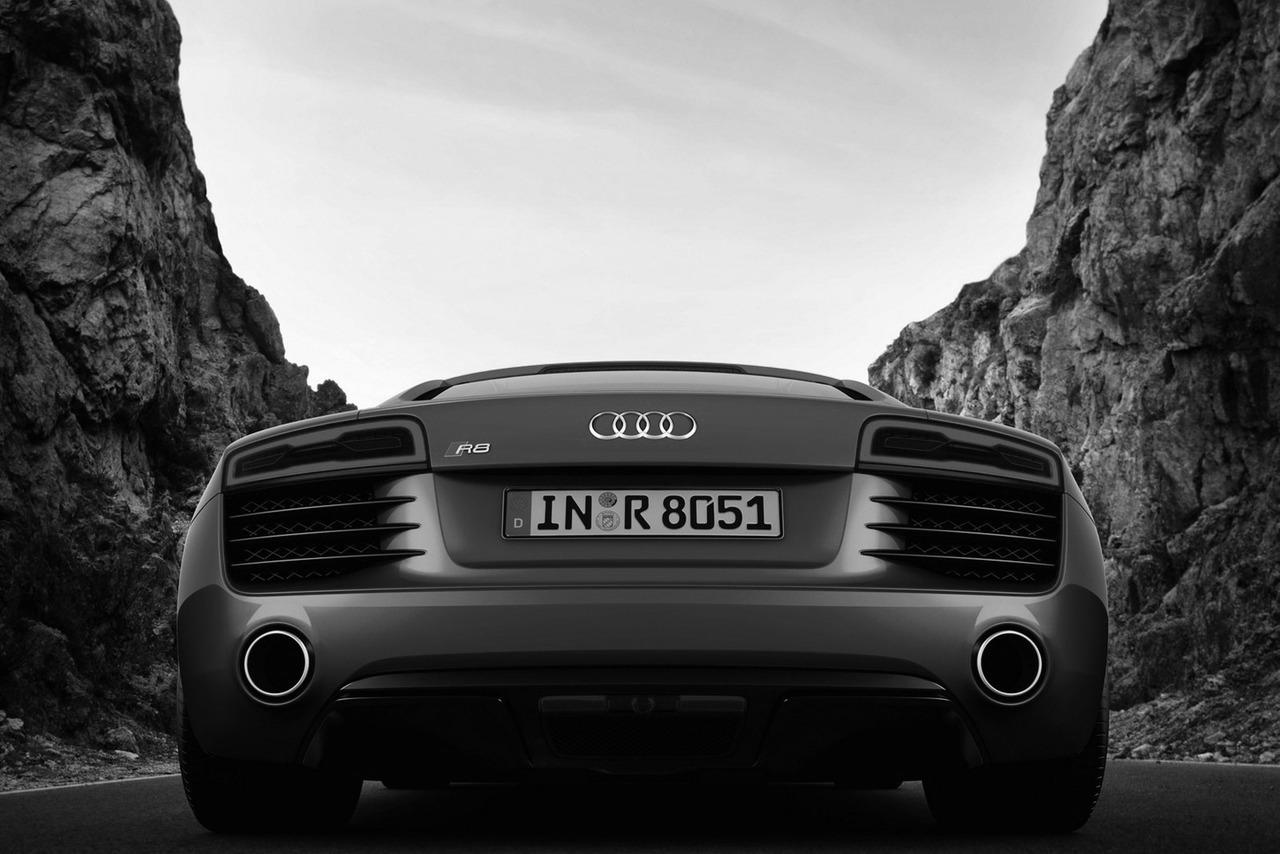car: (172, 358, 1109, 834)
